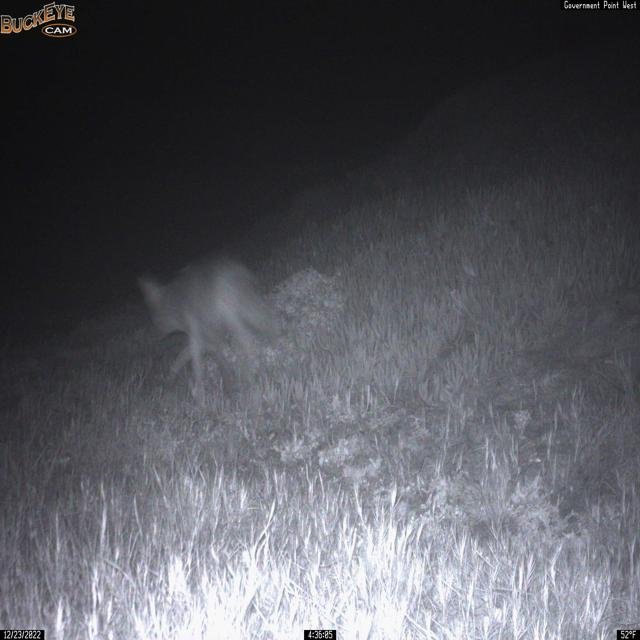coyote: (137, 253, 288, 404)
